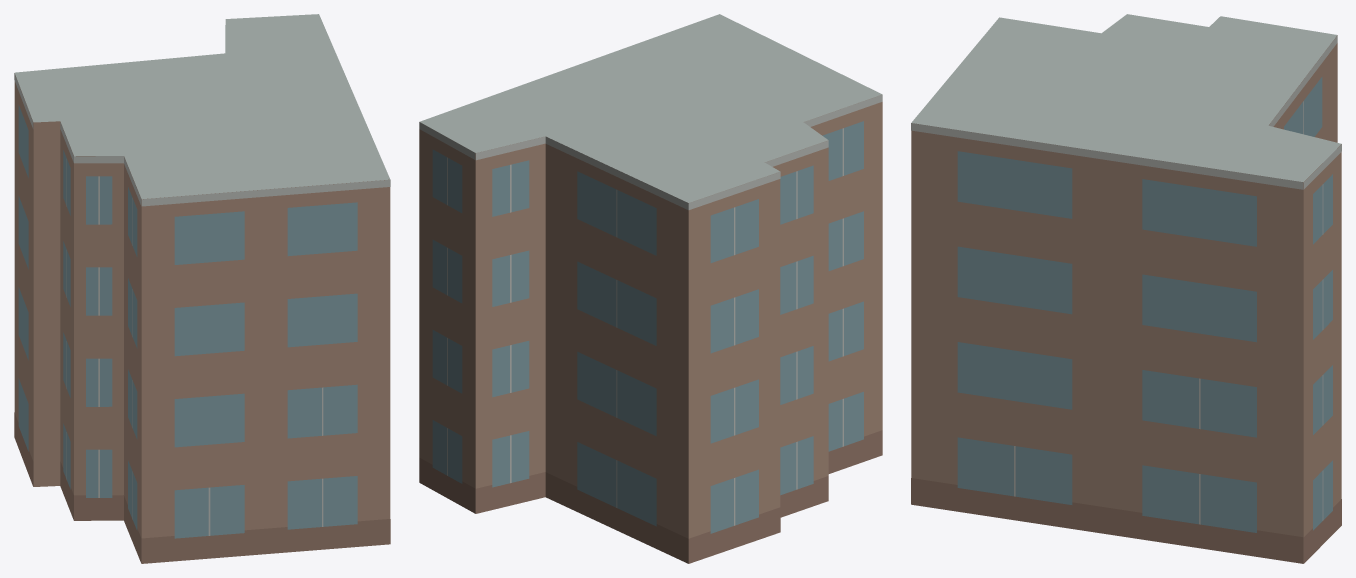
File: survey-upis-32648900.glb
3 renders of one model, left to right at view 1: azimuth 30°, elevation 25°; view 2: azimuth 150°, elevation 25°; view 3: azimuth 270°, elevation 25°, orthographic. The views are drawn at different scales.
Visible parts, largest first — view 1: survey-upis-32648900.tmp; view 2: survey-upis-32648900.tmp; view 3: survey-upis-32648900.tmp.
Boxes of the visible parts, x1,y1,x2,y2 form: survey-upis-32648900.tmp: (14, 14, 390, 563); survey-upis-32648900.tmp: (419, 14, 882, 563); survey-upis-32648900.tmp: (911, 14, 1341, 563).
Bounding box in the file's own units: 11.54 × 12.2 × 12.49.
